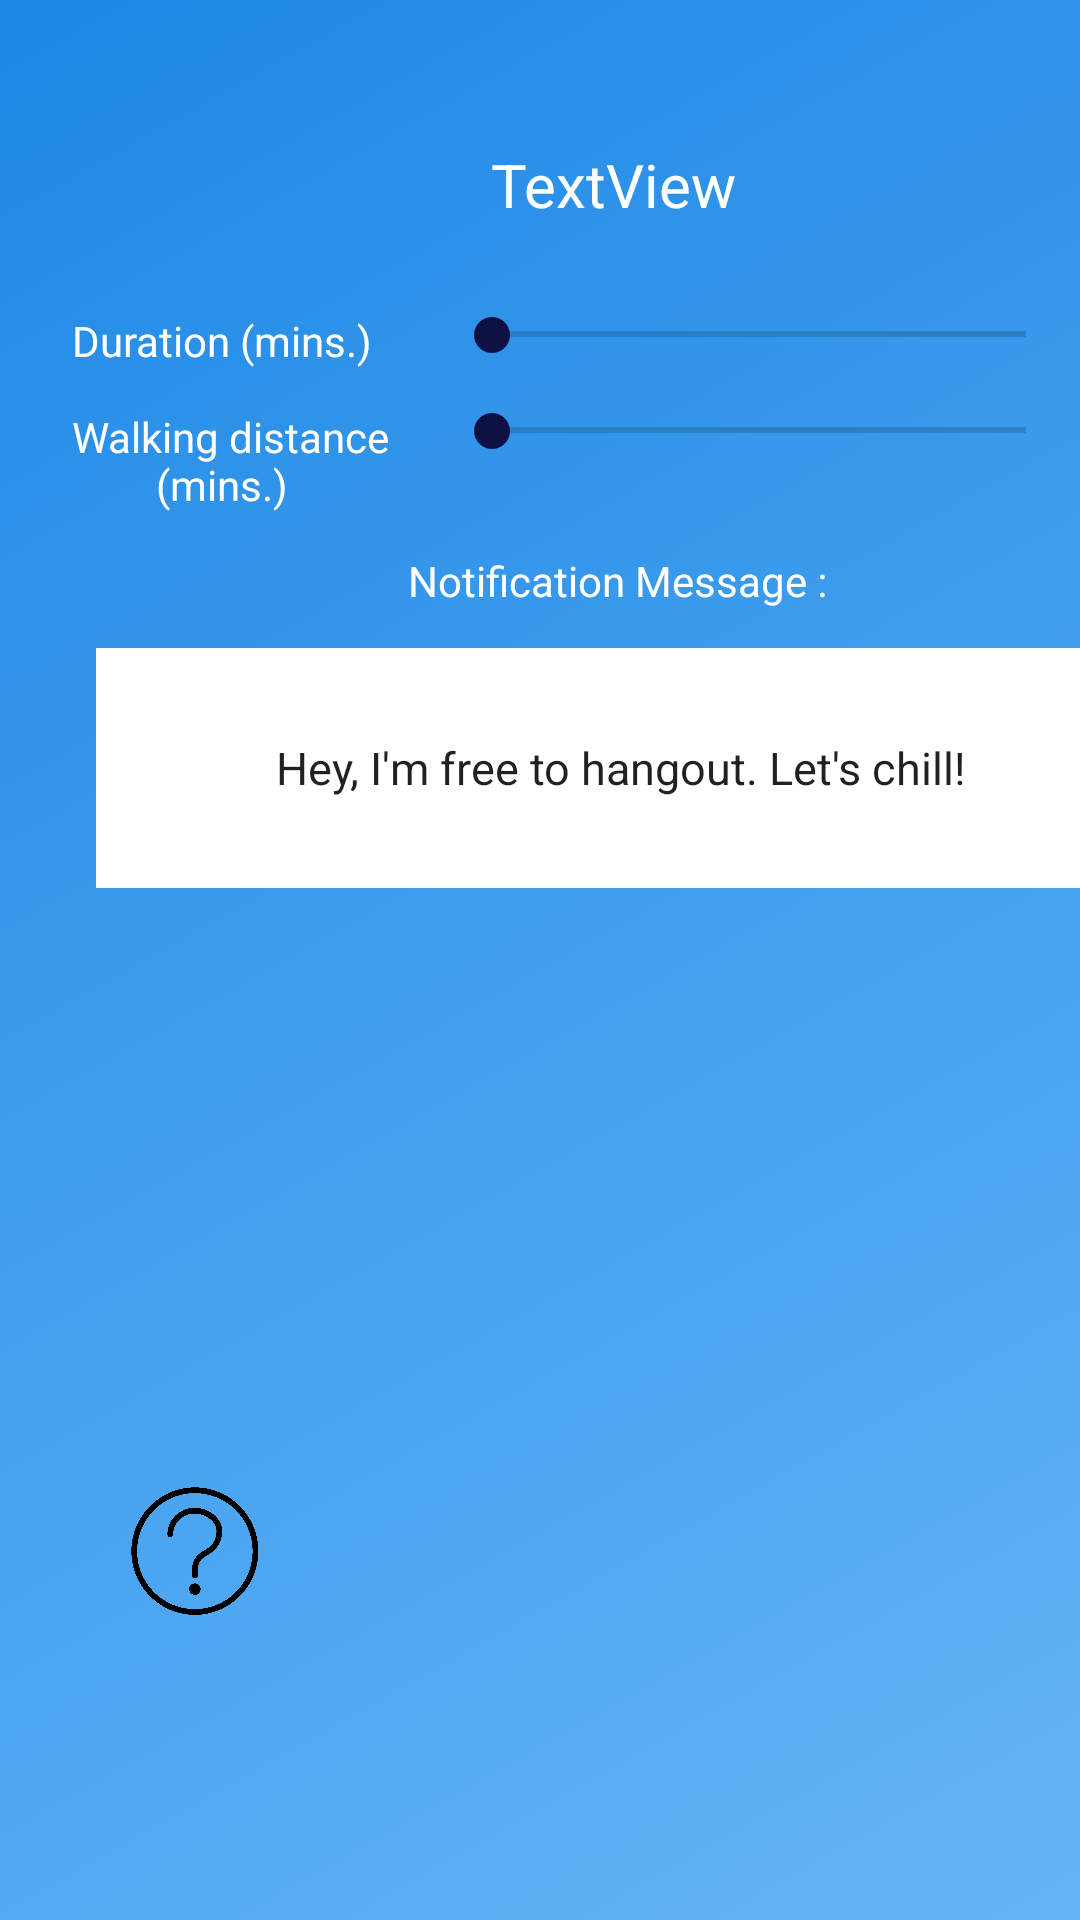

Icon bounding boxes for this 1080 x 1920 phone screenshot, format (x1, y1, x2, y2):
question: (131, 1487, 258, 1615)
